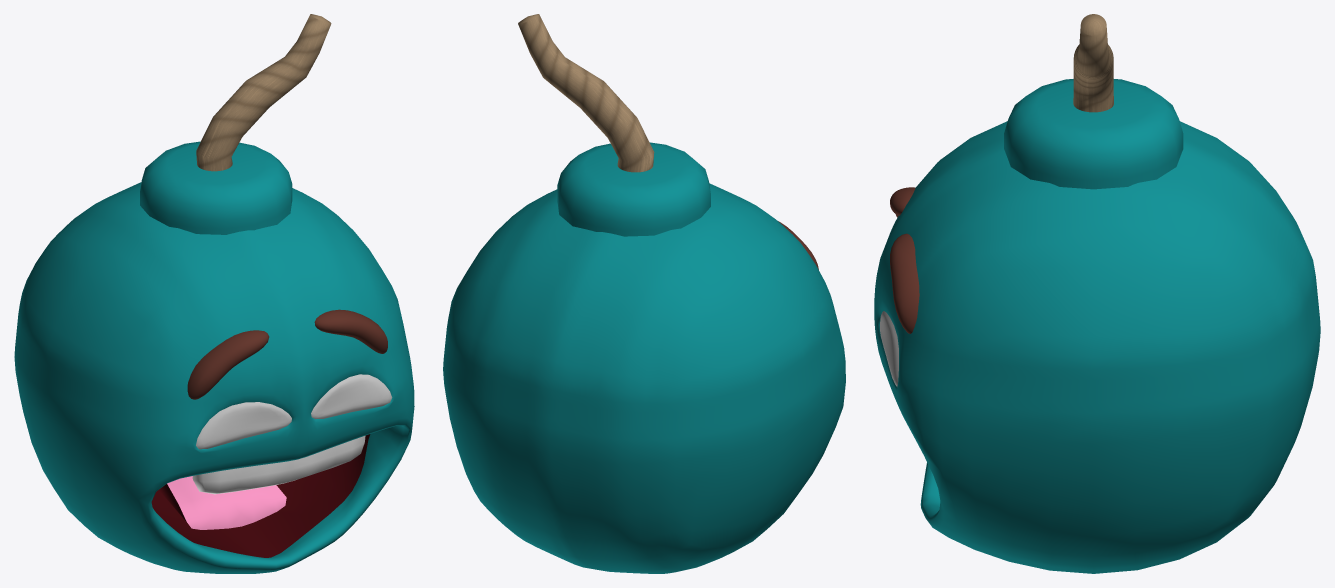
File: Bomb 02.fbx
The picture shows the model from 3 angles, left to right: view 1: azimuth 30°, elevation 25°; view 2: azimuth 150°, elevation 25°; view 3: azimuth 270°, elevation 25°; orthographic projection. The views are drawn at different scales.
Parts seen in each view (by area): view 1: Laughing, Cylinder_10, Sphere_10; view 2: Laughing, Cylinder_10, Sphere_10; view 3: Laughing, Cylinder_10, Sphere_10.
Part boxes in pixels (<box>): Laughing: <box>14,182,414,573</box>; Cylinder_10: <box>140,141,292,234</box>; Sphere_10: <box>196,14,331,171</box>; Laughing: <box>443,183,845,573</box>; Cylinder_10: <box>557,142,710,236</box>; Sphere_10: <box>518,14,654,172</box>; Laughing: <box>874,121,1320,573</box>; Cylinder_10: <box>1004,79,1183,189</box>; Sphere_10: <box>1073,14,1113,112</box>.
Bounding box in the file's own units: 158 × 231 × 158.
